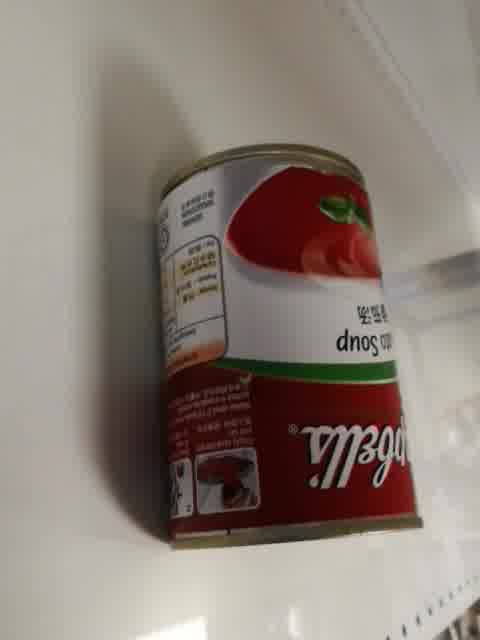tomatosoup: (151, 141, 428, 555)
